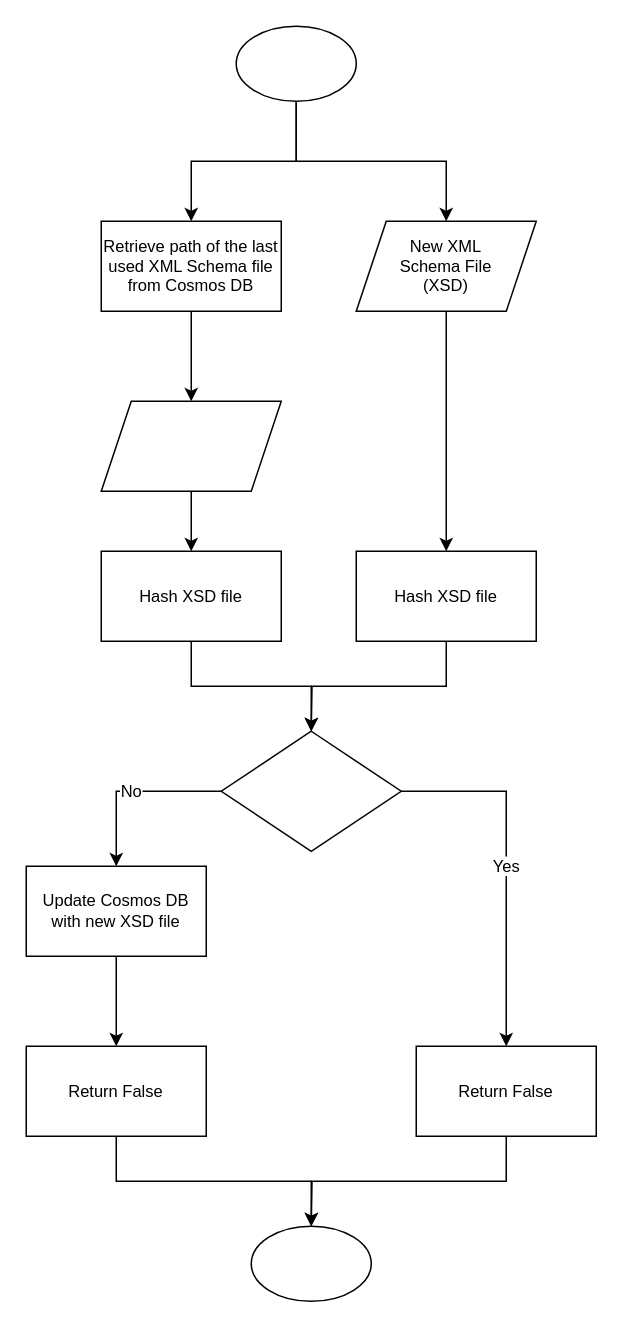
Image size: 623x1328. Some labels were removed from this diagram. Here are the shapes that lost their labels. From the top down, the centre of each, then its label:
At point 295,63: "START".
At point 190,445: "XML Schema File (XSD)".
At point 310,790: "Are the hash values the same?".
At point 310,1263: "END".
